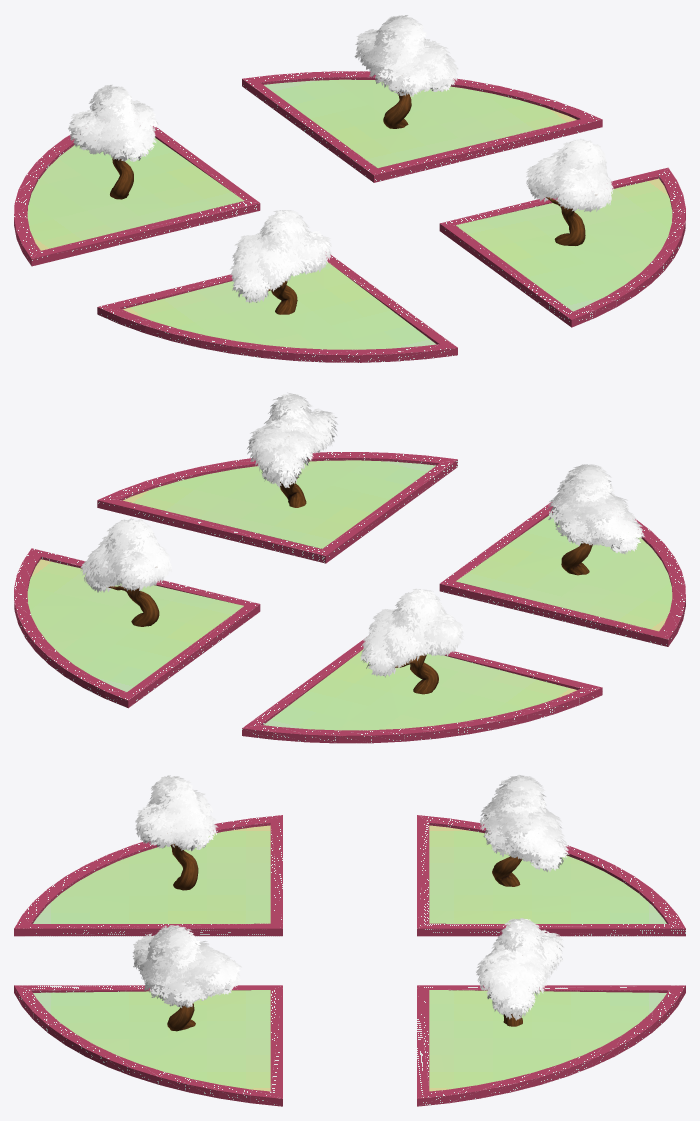
File: TownCenter.glb
The picture shows the model from 3 angles, top to bottom: view 1: azimuth 30°, elevation 25°; view 2: azimuth 150°, elevation 25°; view 3: azimuth 270°, elevation 25°; orthographic projection.
Visible parts, largest first — view 1: RaisedBeds, Tree_Leaves, Tree_Leaves.002, Tree_Leaves.001, Tree_Leaves.003, Tree_Trunk.003, Tree_Trunk.001, Tree_Trunk.002, Tree_Trunk; view 2: RaisedBeds, Tree_Leaves.001, Tree_Leaves, Tree_Leaves.003, Tree_Leaves.002, Tree_Trunk.002, Tree_Trunk.001, Tree_Trunk; view 3: RaisedBeds, Tree_Leaves.003, Tree_Leaves.002, Tree_Leaves.001, Tree_Leaves, Tree_Trunk, Tree_Trunk.001, Tree_Trunk.003.
Part boxes in pixels (x1,y1,x2,y2): RaisedBeds: (14,71,685,362); Tree_Leaves: (230,210,331,302); Tree_Leaves.002: (354,15,458,96); Tree_Leaves.001: (68,84,158,161); Tree_Leaves.003: (526,138,613,211); Tree_Trunk.003: (546,197,585,245); Tree_Trunk.001: (95,140,133,199); Tree_Trunk.002: (383,91,411,128); Tree_Trunk: (268,280,297,314); RaisedBeds: (14,452,685,743); Tree_Leaves.001: (360,588,463,677); Tree_Leaves: (547,464,644,554); Tree_Leaves.003: (247,392,337,487); Tree_Leaves.002: (80,518,171,592); Tree_Trunk.002: (108,586,159,626); Tree_Trunk.001: (395,654,438,694); Tree_Trunk: (561,541,592,575); RaisedBeds: (14,815,685,1106); Tree_Leaves.003: (132,925,241,1007); Tree_Leaves.002: (476,918,563,1020); Tree_Leaves.001: (480,774,569,871); Tree_Leaves: (135,775,218,851); Tree_Trunk: (170,844,198,890); Tree_Trunk.001: (492,856,522,886); Tree_Trunk.003: (167,1003,195,1031).
Size of the model in its own units: 39.23 by 7.35 by 39.23.
Materials: 3 (3 with a texture image).
